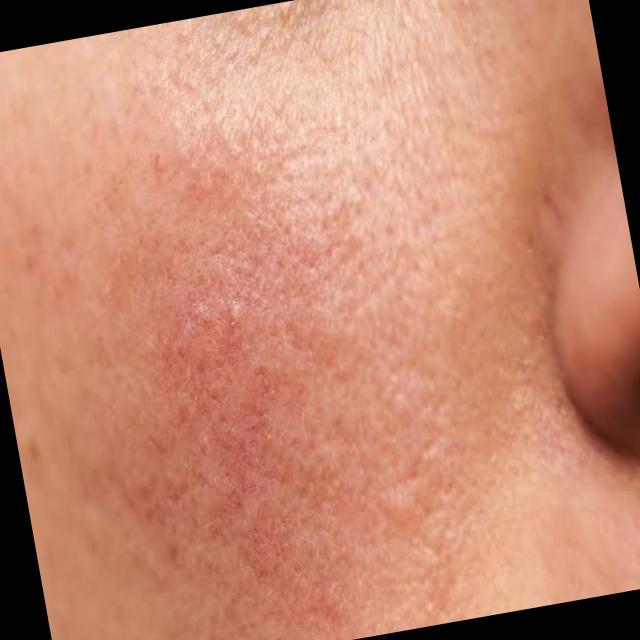redness: (95, 194, 398, 640)
